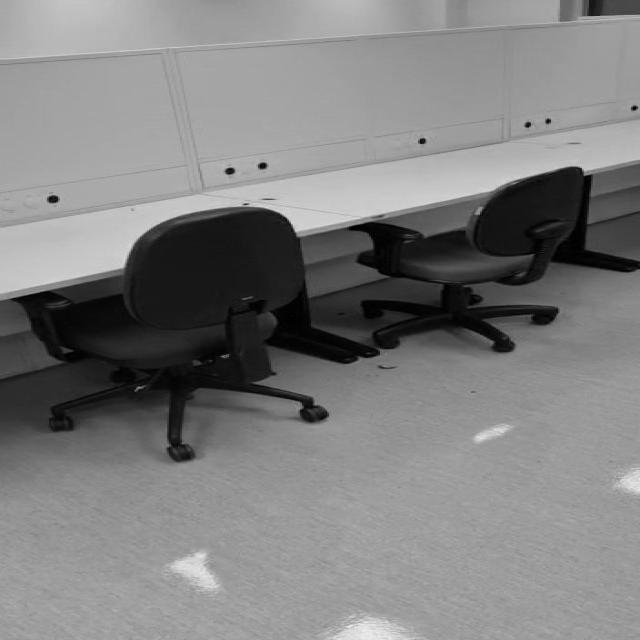cadeira-azul: (9, 206, 329, 461)
